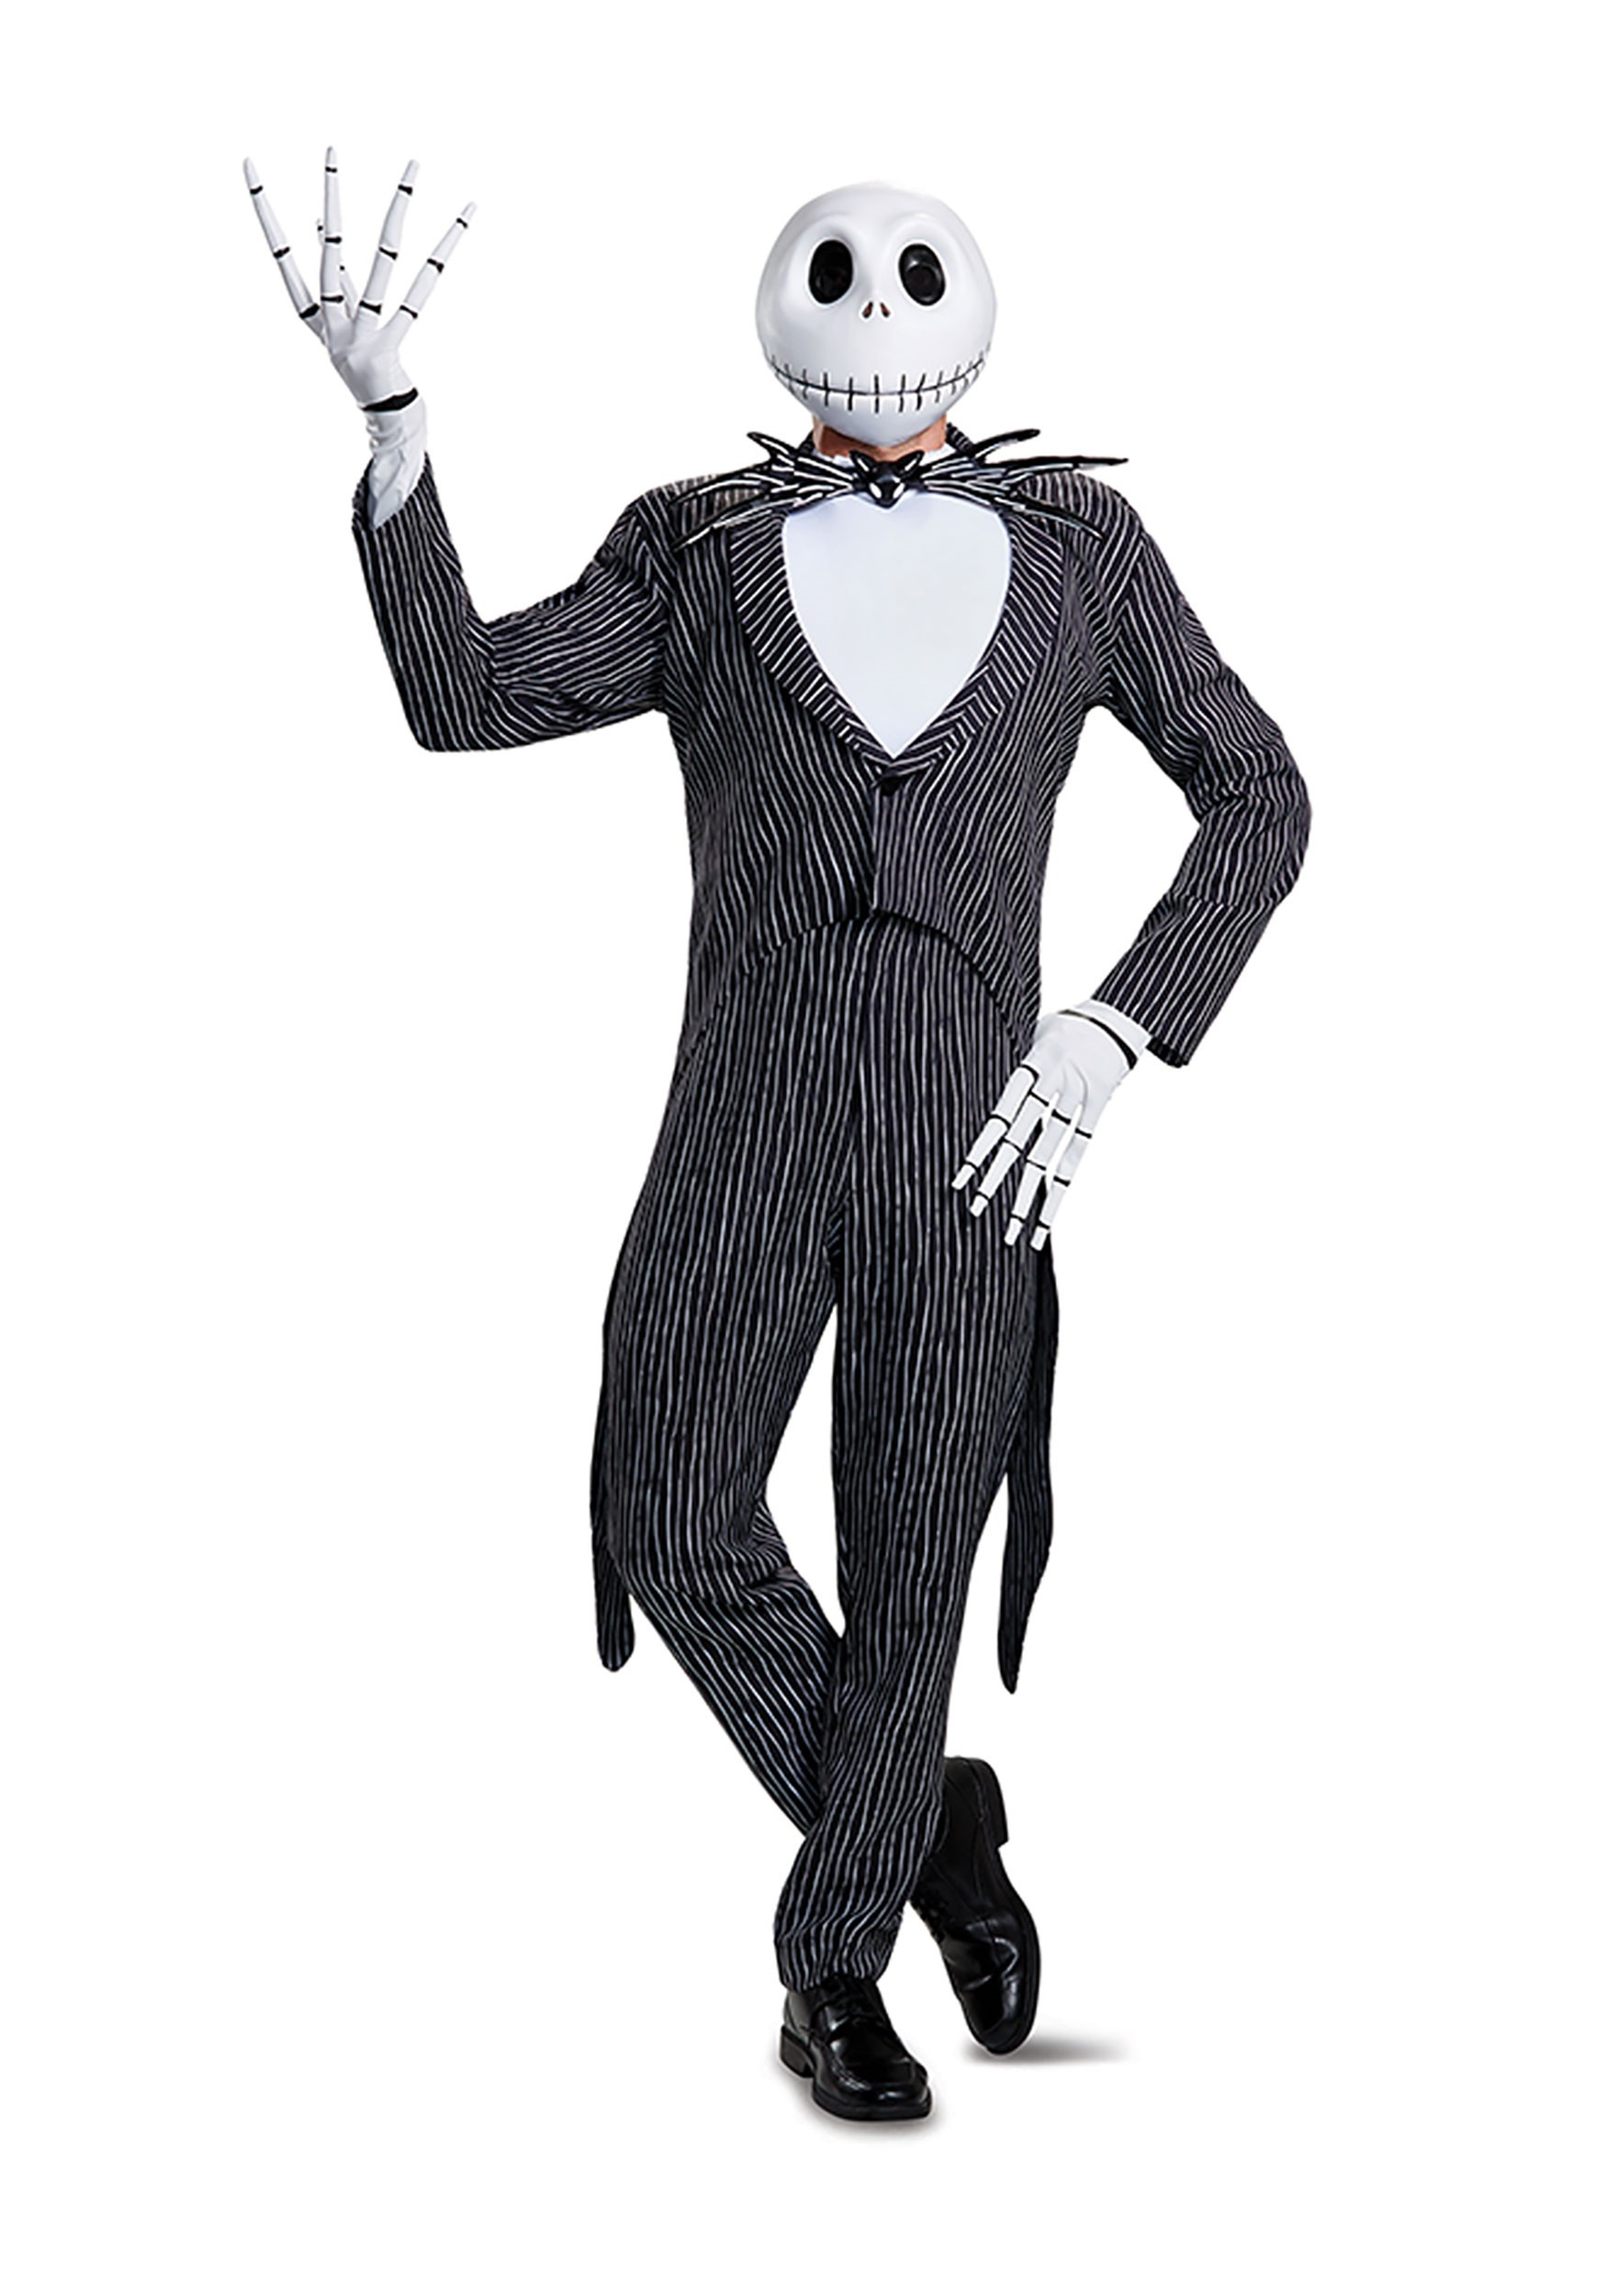Jack Skellington: (229, 145, 1319, 2134)
